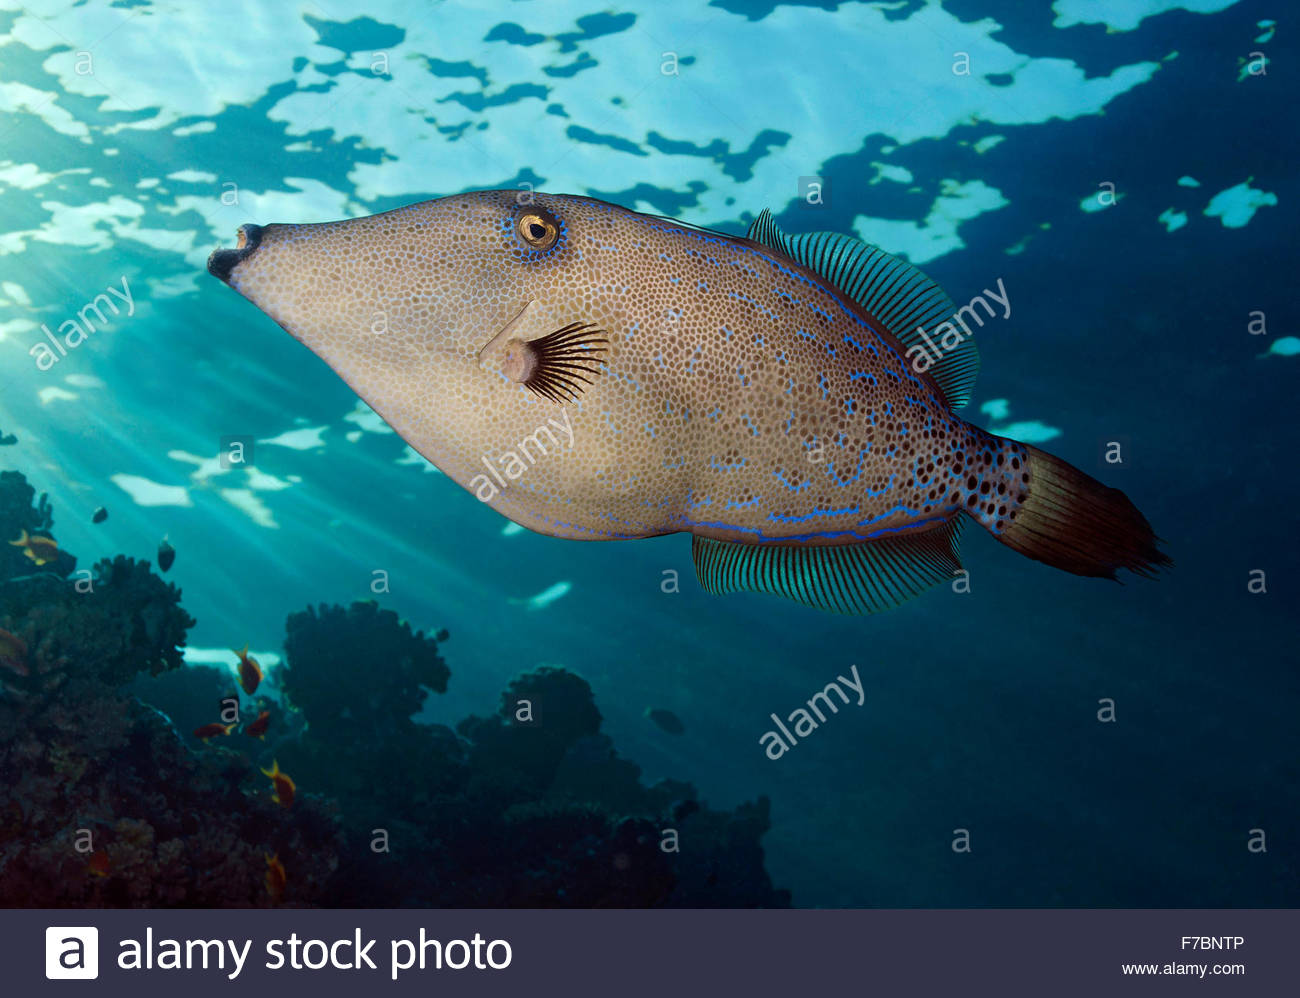Aluterus_scriptus: (200, 182, 1177, 619)
